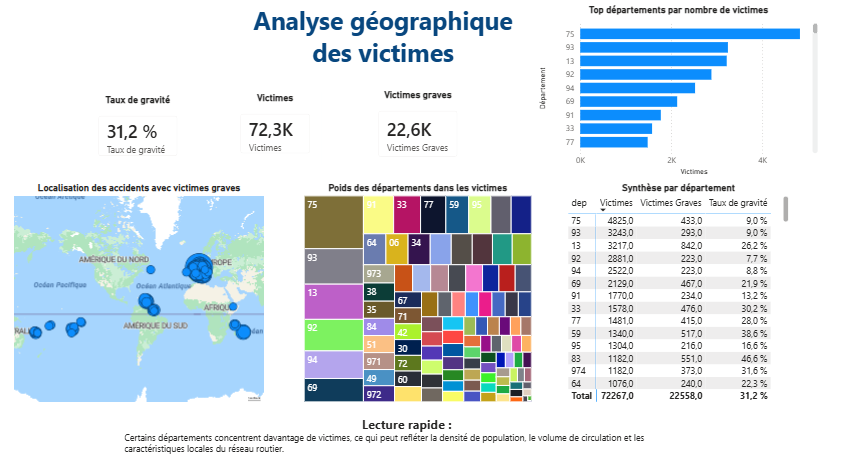

What the dashboard file says about the page in this screenshot:
{"tool":"powerbi","page":{"name":"Analyse géographique","canvas":[1280,720],"ordinal":3},"visuals":[{"type":"cardVisual","title":"Victimes","fields":{"Data":["tbl_FACT_Usagers_Analyse_2024.Victimes"]},"box":[352.7,138.9,140,110],"z":0},{"type":"cardVisual","title":"Victimes graves","fields":{"Data":["tbl_FACT_Usagers_Analyse_2024.Victimes Graves"]},"box":[562.7,134.6,154.3,120],"z":1},{"type":"cardVisual","title":"Taux de gravité","fields":{"Data":["tbl_FACT_Usagers_Analyse_2024.Taux de gravité"]},"box":[138.6,142.9,154.3,111.4],"z":2},{"type":"textbox","box":[369.7,0,433.3,122.7],"z":3},{"type":"azureMap","title":"Localisation des accidents avec victimes graves","fields":{"Y":["tbl_FACT_Usagers_Analyse_2024.lat"],"X":["tbl_FACT_Usagers_Analyse_2024.long"],"Size":["tbl_FACT_Usagers_Analyse_2024.Victimes Graves"]},"box":[22,276,388,338],"z":4},{"type":"clusteredBarChart","title":"Top départements par nombre de victimes","fields":{"Y":["tbl_FACT_Usagers_Analyse_2024.Victimes"],"Category":["tbl_FACT_Usagers_Analyse_2024.dep"]},"box":[818,6,432,264],"z":5},{"type":"treemap","title":"Poids des départements dans les victimes","fields":{"Group":["tbl_FACT_Usagers_Analyse_2024.dep"],"Values":["tbl_FACT_Usagers_Analyse_2024.Victimes"]},"box":[462,276,354,338],"z":7},{"type":"pivotTable","title":"Synthèse par département","fields":{"Rows":["tbl_FACT_Usagers_Analyse_2024.dep"],"Values":["tbl_FACT_Usagers_Analyse_2024.Victimes","tbl_FACT_Usagers_Analyse_2024.Victimes Graves","tbl_FACT_Usagers_Analyse_2024.Taux de gravité"]},"box":[862,276,344,338],"z":8},{"type":"textbox","box":[190,624,866,76],"z":9}]}

Visuals, with their boxes in screenshot pixels (x1, y1, x2, y2), scaled from the page's 1280x720 canvas onto the 841x471 screenshot:
"Victimes" cardVisual: (x1=232, y1=91, x2=324, y2=163)
"Victimes graves" cardVisual: (x1=370, y1=88, x2=471, y2=167)
"Taux de gravité" cardVisual: (x1=91, y1=93, x2=192, y2=166)
textbox: (x1=243, y1=0, x2=528, y2=80)
"Localisation des accidents avec victimes graves" azureMap: (x1=14, y1=181, x2=269, y2=402)
"Top départements par nombre de victimes" clusteredBarChart: (x1=537, y1=4, x2=821, y2=177)
"Poids des départements dans les victimes" treemap: (x1=304, y1=181, x2=536, y2=402)
"Synthèse par département" pivotTable: (x1=566, y1=181, x2=792, y2=402)
textbox: (x1=125, y1=408, x2=694, y2=458)
